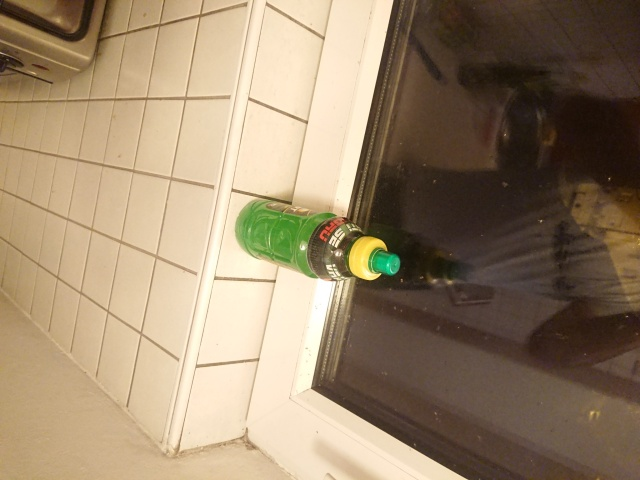Vindi Iso Sport Lemon-Grapefruit 500mL: (232, 196, 403, 283)
